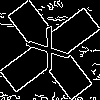X: (25, 25, 79, 82)
